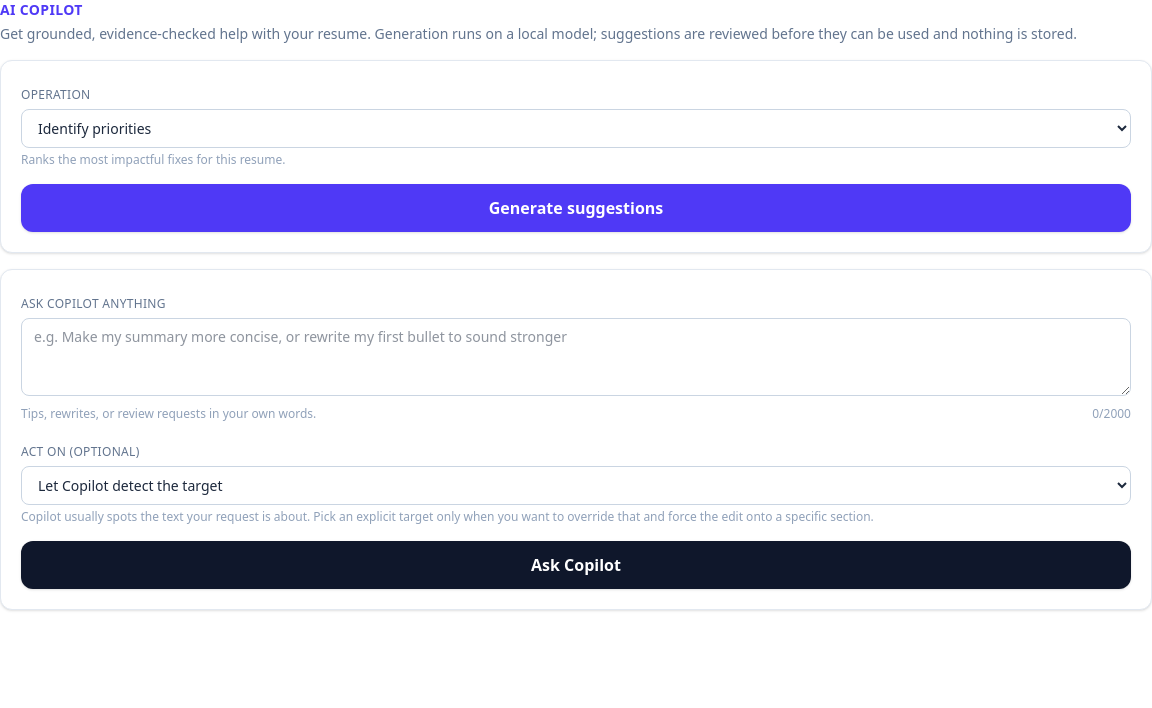
Test: CopilotPanel free-text requests › applies a free-form edit proposal to the working resume
Select "Analyst with a background in mathematics." in the dropdown labelled "Act on (optional)" at (576,486), box [21,466,1131,505]
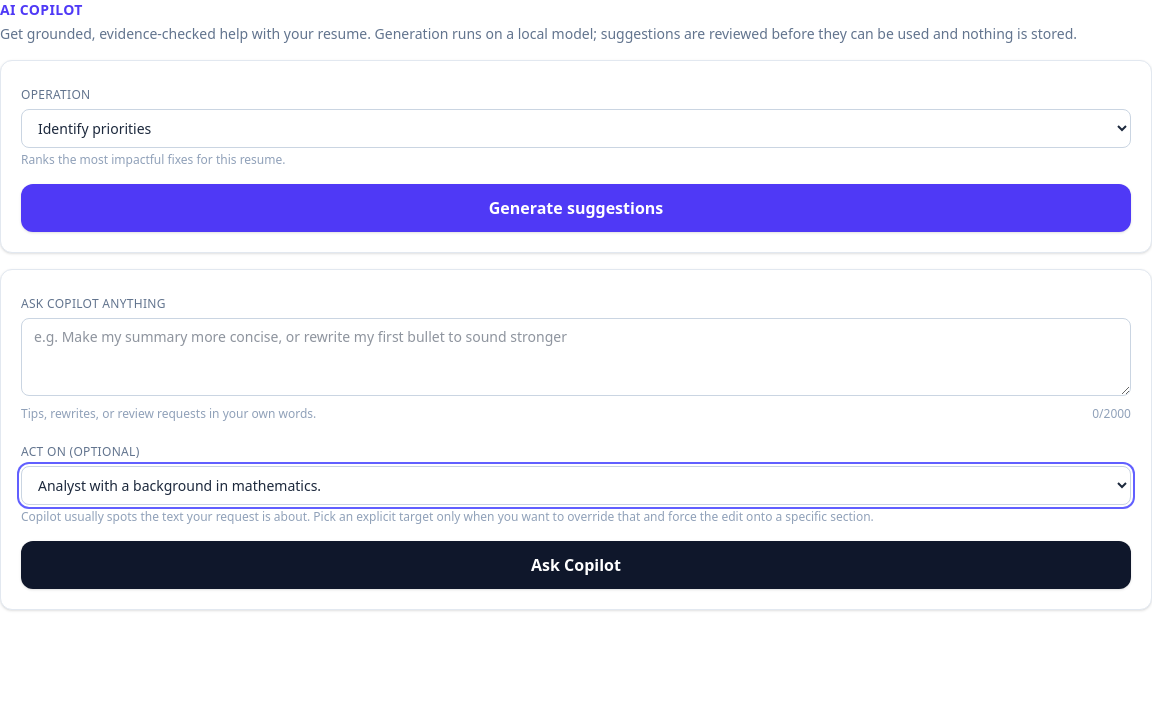
Type "Rewrite the summary to be crisper" into the text box named "Free-text request for Copilot".
click(576, 357); type("Rewrite the summary to be crisper")  # box [21,318,1131,396]
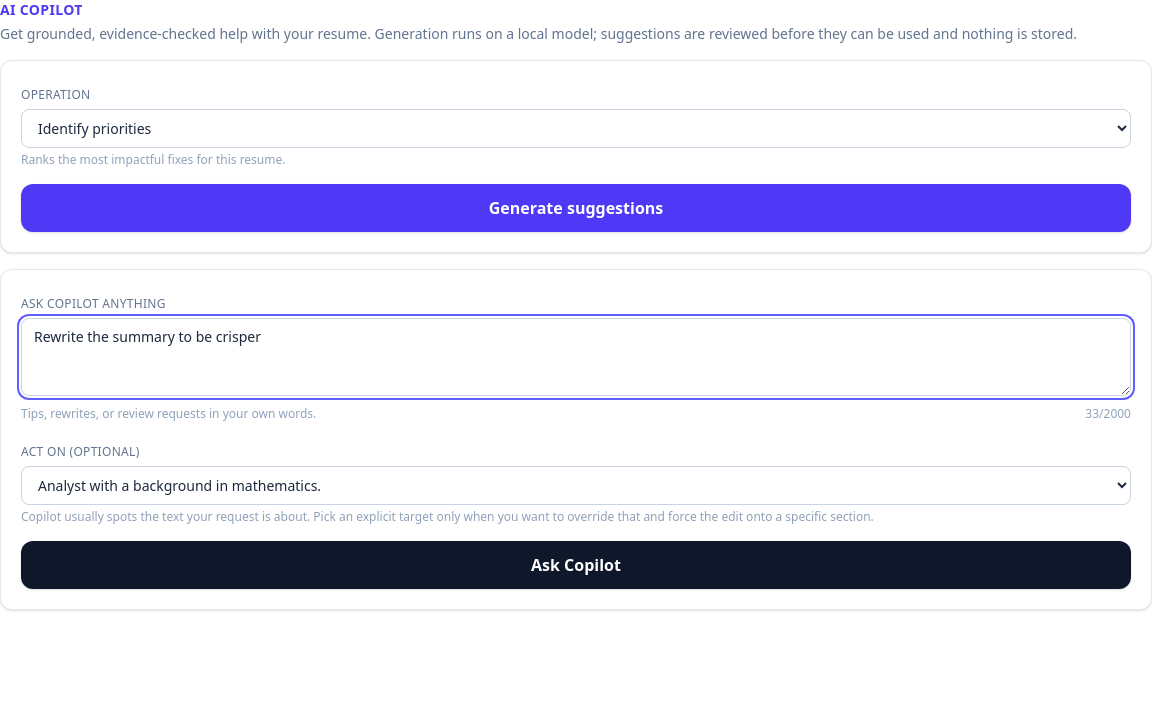
Click the button "Ask Copilot".
click(576, 565)  # box [21,541,1131,589]
(page scrolled)
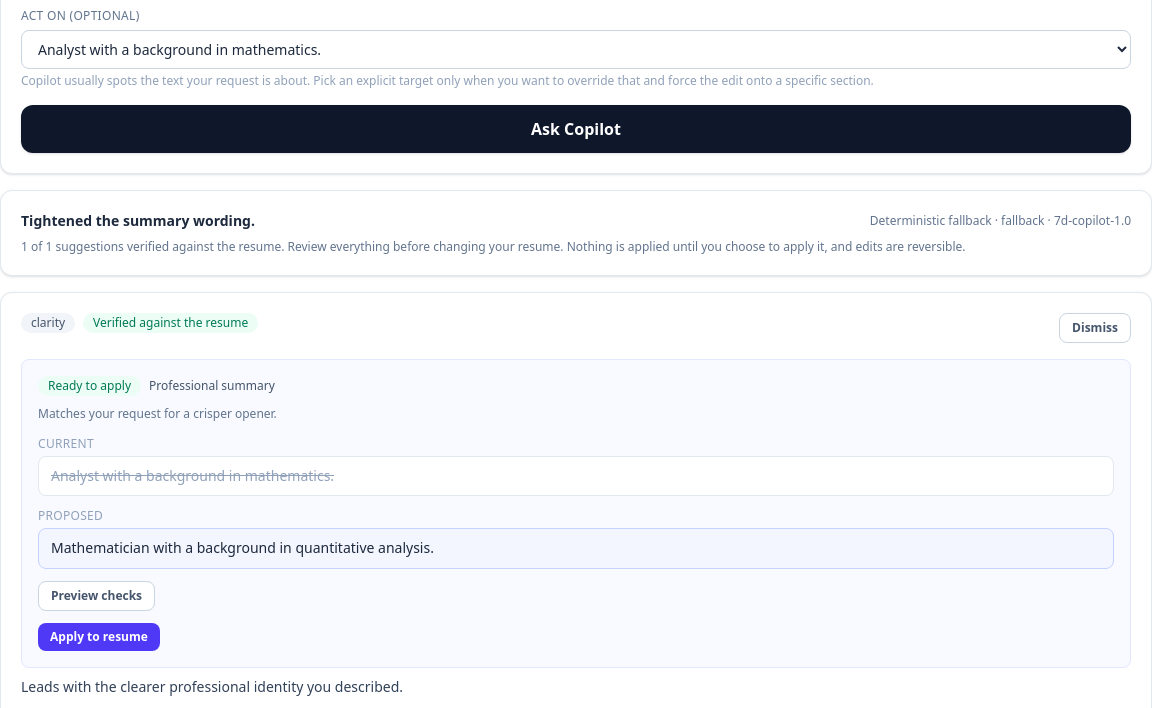
Check: the button "Apply to resume" is shown
Click the button "Apply to resume".
click(99, 637)  # box [38,623,160,651]
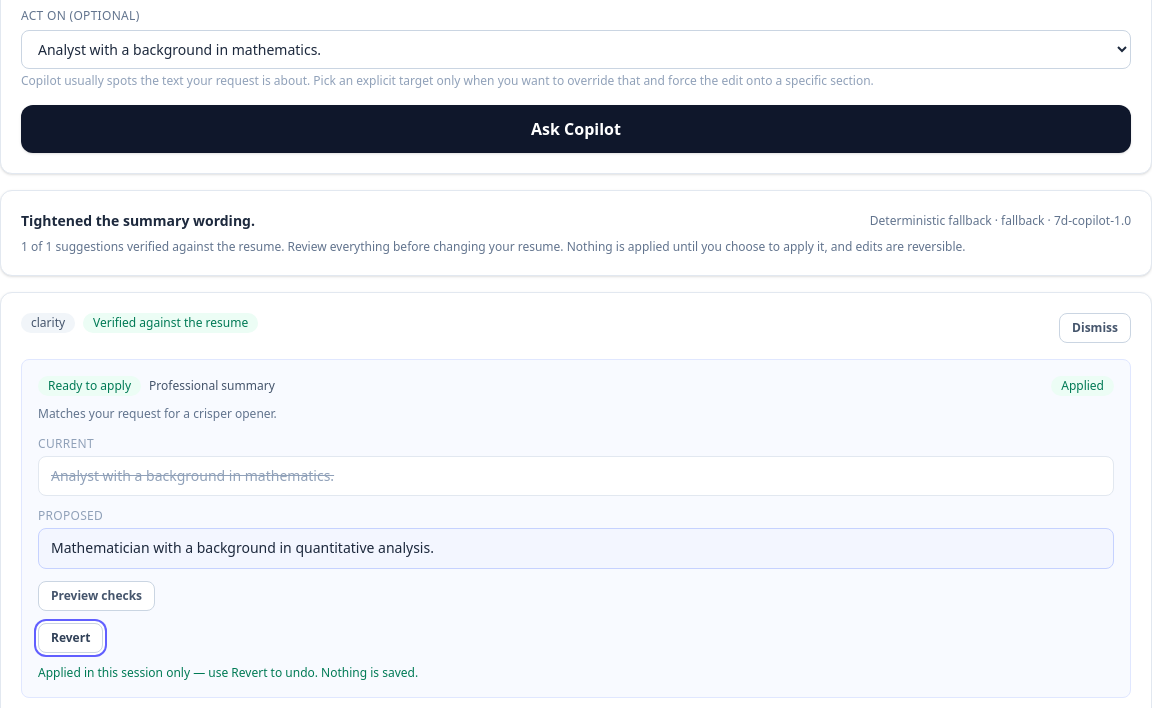
Check: the text "Applied" is shown, box [1051,376,1114,396]
Check: the button "Revert" is shown, box [38,623,103,653]
